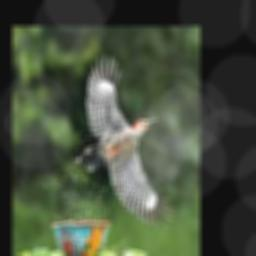Woodpecker: (79, 55, 175, 226)
